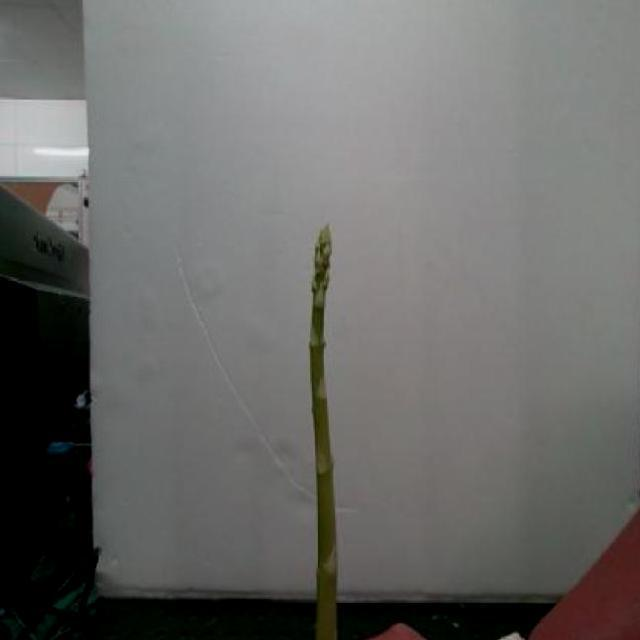aspargus: (310, 227, 341, 640)
